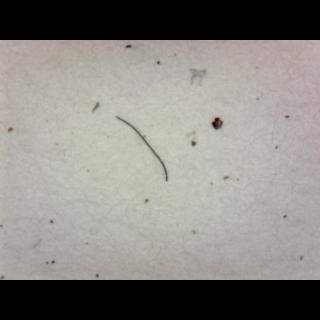Microplastic: (110, 111, 180, 190)
